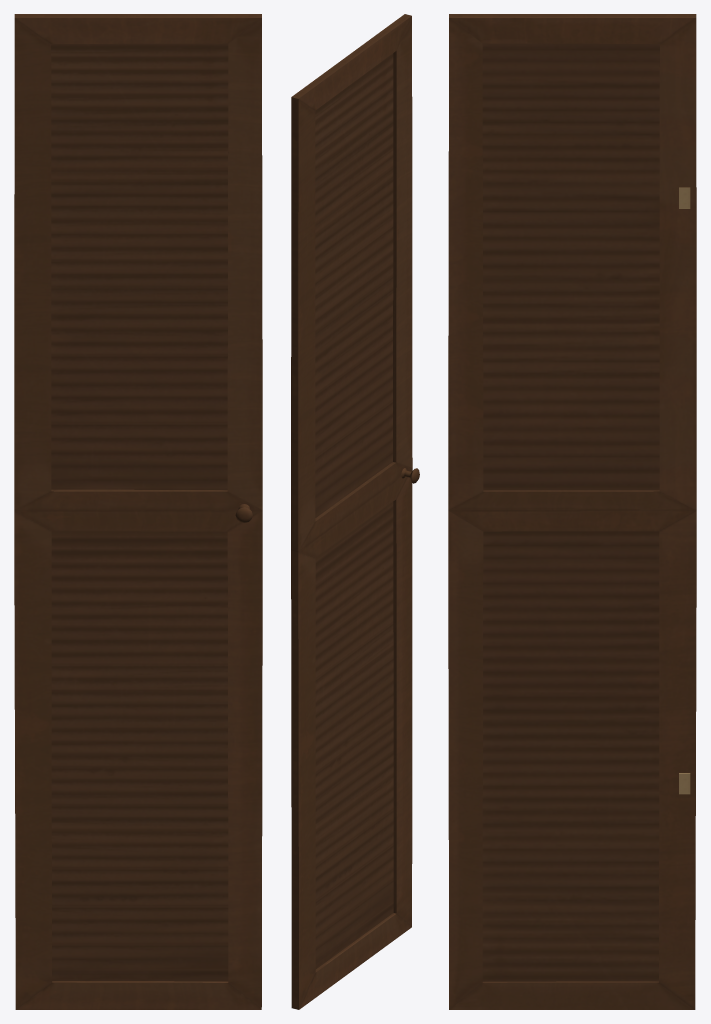
File: SM_Cabinets_B1_Door3.fbx
3 renders of one model, left to right at view 1: azimuth 90°, elevation 25°; view 2: azimuth 150°, elevation 25°; view 3: azimuth 270°, elevation 25°, orthographic. The views are drawn at different scales.
Visible parts, largest first — view 1: SM_Cabinets_B1_Door3; view 2: SM_Cabinets_B1_Door3; view 3: SM_Cabinets_B1_Door3.
Part boxes in pixels (x1=…): SM_Cabinets_B1_Door3: x1=14, y1=14, x2=262, y2=1009; SM_Cabinets_B1_Door3: x1=291, y1=14, x2=419, y2=1009; SM_Cabinets_B1_Door3: x1=448, y1=14, x2=696, y2=1009.
Bounding box in the file's own units: 5.2 × 46.11 × 203.
2 materials, 2 textured.
